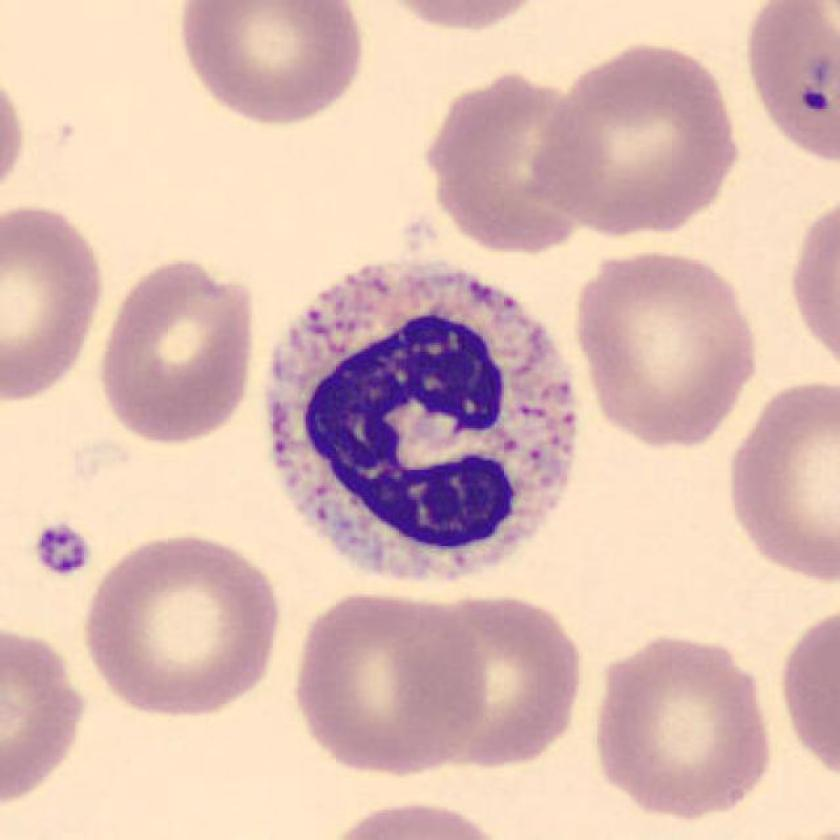neutrophil: (270, 265, 576, 588)
